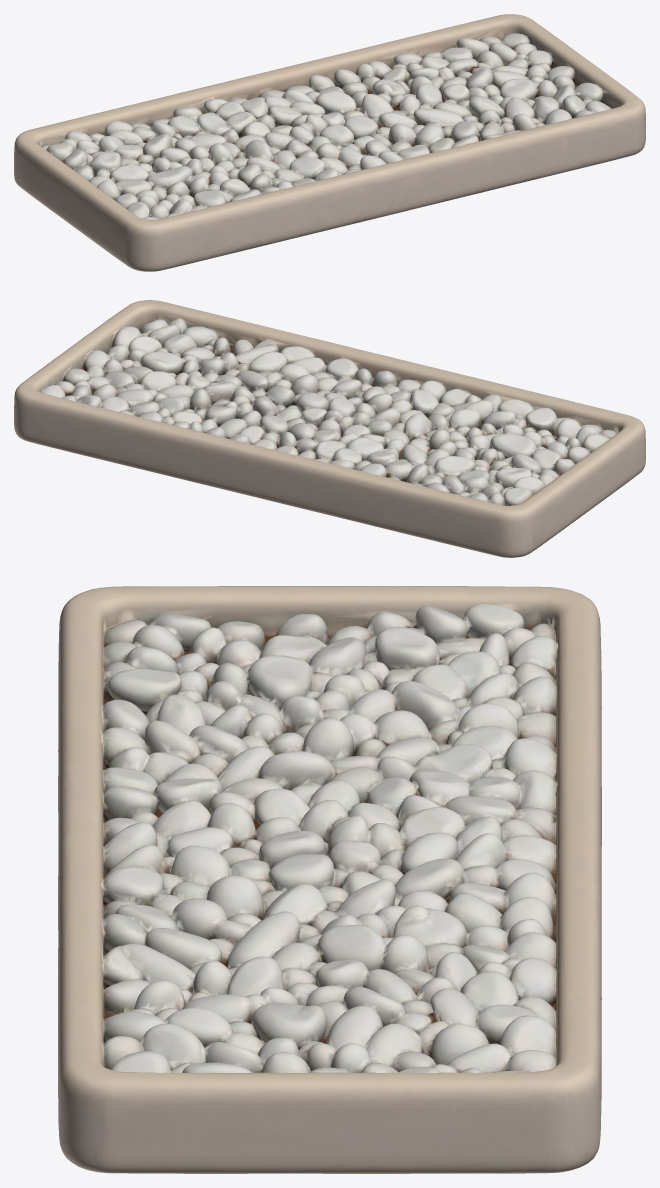
The model's file is gravel.glb.
3 renders of one model, top to bottom at view 1: azimuth 30°, elevation 25°; view 2: azimuth 150°, elevation 25°; view 3: azimuth 270°, elevation 25°, orthographic. The views are drawn at different scales.
Parts seen in each view (by area): view 1: tripo_node_47ae661d-e762-406c-90f9-3e82cef12281; view 2: tripo_node_47ae661d-e762-406c-90f9-3e82cef12281; view 3: tripo_node_47ae661d-e762-406c-90f9-3e82cef12281.
Boxes of the visible parts, x1,y1,x2,y2 form: tripo_node_47ae661d-e762-406c-90f9-3e82cef12281: (14,14,645,271); tripo_node_47ae661d-e762-406c-90f9-3e82cef12281: (14,300,645,557); tripo_node_47ae661d-e762-406c-90f9-3e82cef12281: (58,586,601,1173).
Size of the model in its own units: 11.03 by 0.9995 by 5.02.
1 material, 1 textured.
